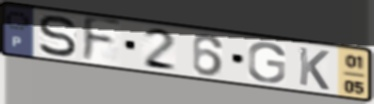2: (138, 28, 179, 72)
6: (190, 32, 225, 78)
F: (80, 14, 124, 65)
G: (246, 41, 288, 84)
K: (297, 45, 332, 92)
S: (38, 14, 79, 59)
